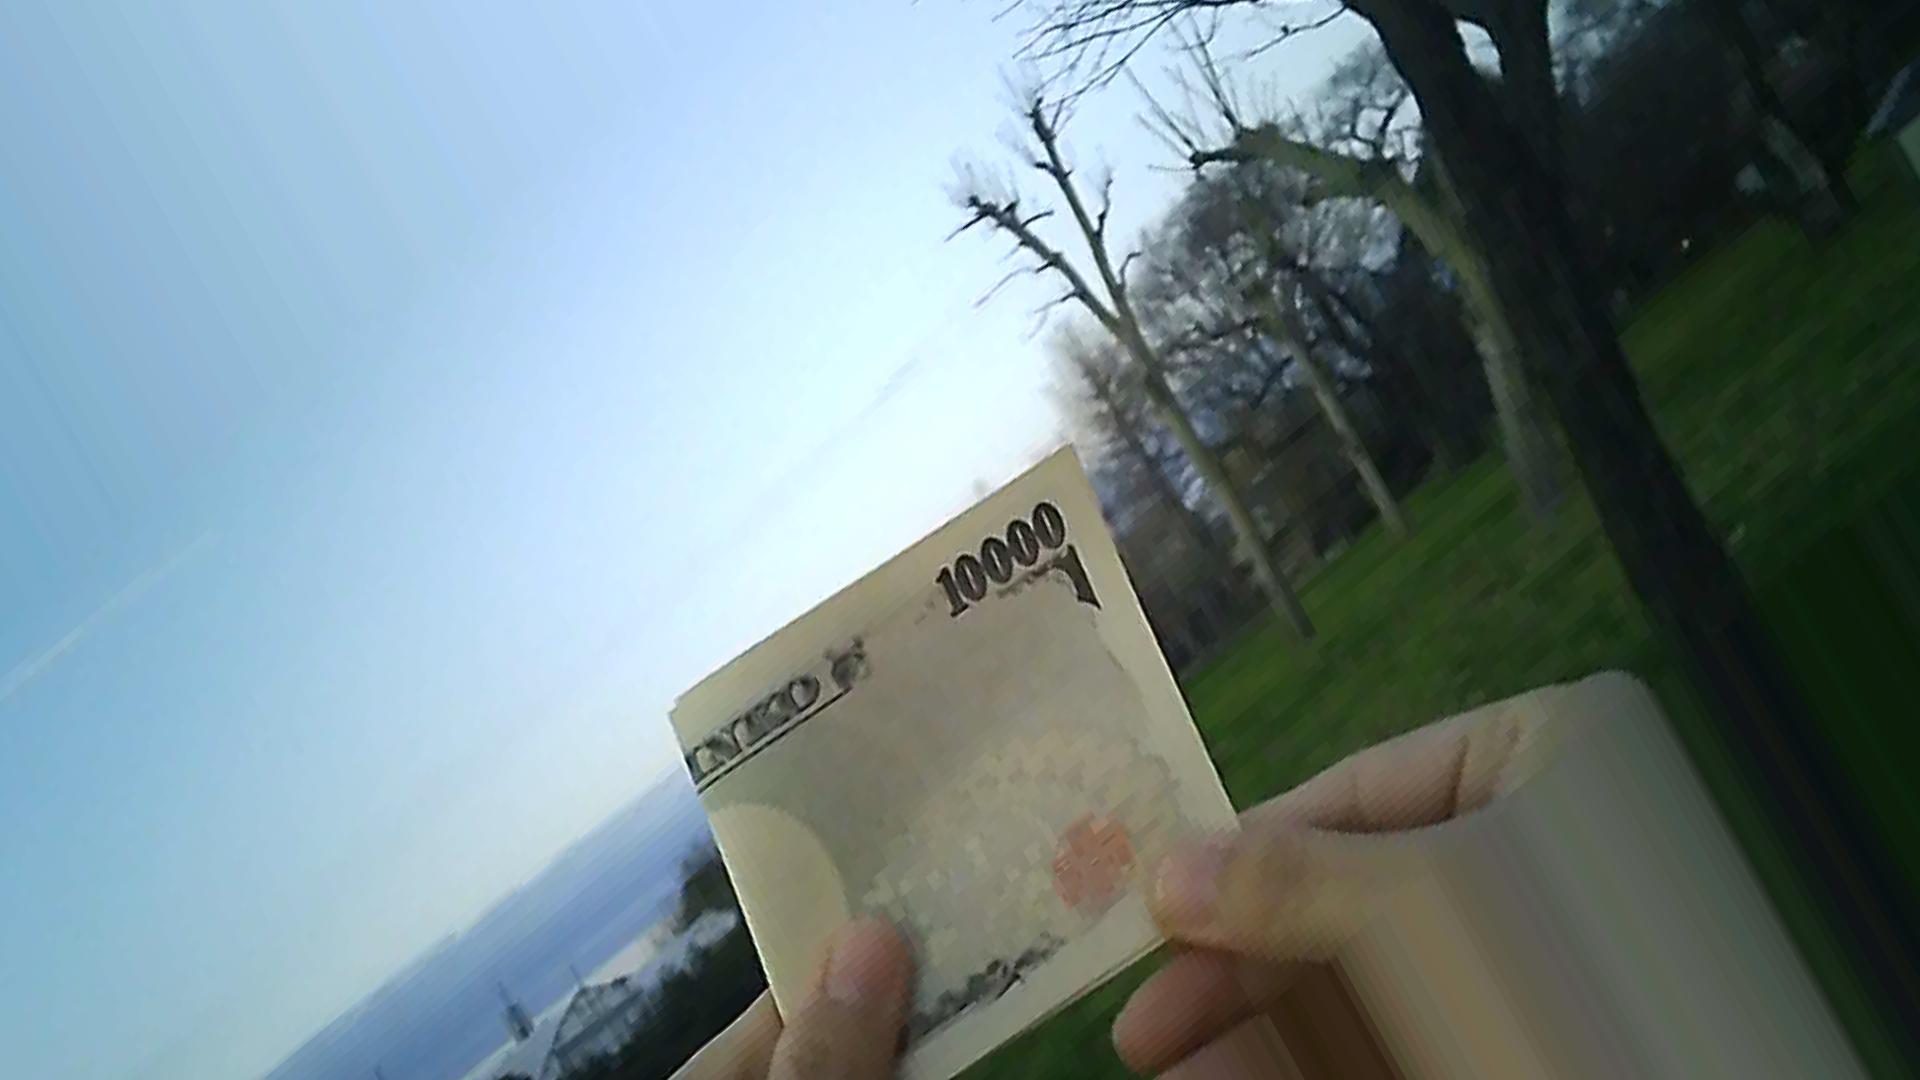10,000 Yen: (646, 451, 1249, 1038)
